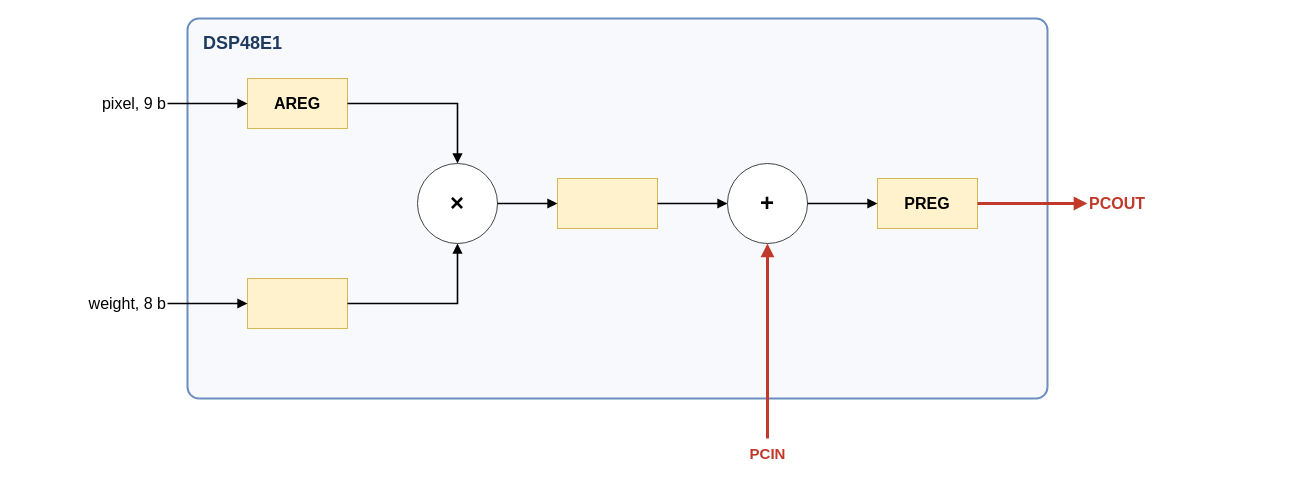
Some shapes in this 1304 by 485 pixel diagram are drawn without their labels. The shapes that lost their labels are listed below. From the top down, each one's centre as x and y in pixels, then its label:
pixel 607 203: MREG
pixel 297 303: BREG
